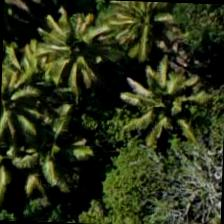Kelapa_Sawit: (114, 43, 206, 136), (0, 100, 91, 194), (23, 0, 117, 87), (96, 0, 189, 62), (0, 46, 51, 139)
